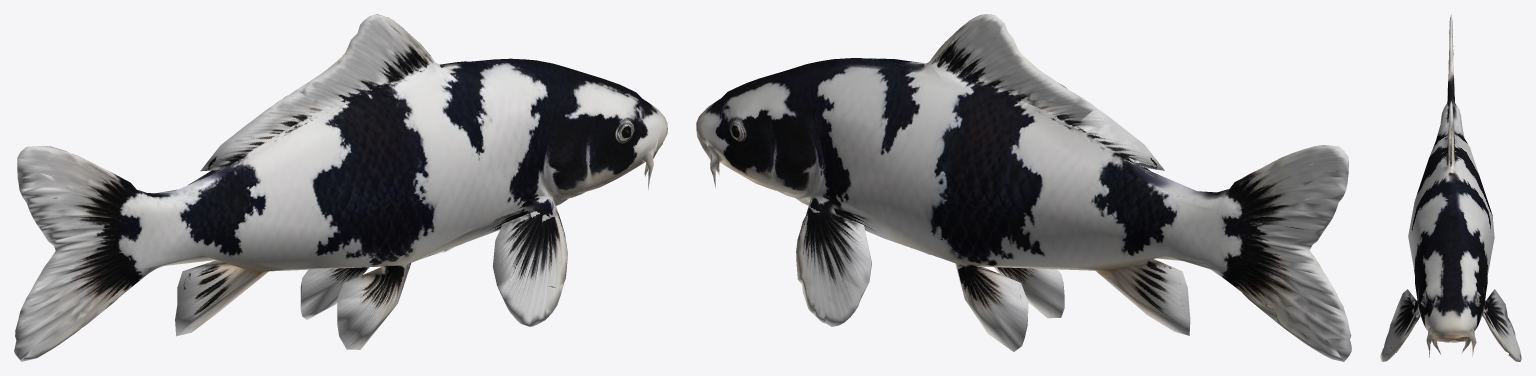
The model's file is shiro.glb.
The picture shows the model from 3 angles, left to right: view 1: azimuth 30°, elevation 25°; view 2: azimuth 150°, elevation 25°; view 3: azimuth 270°, elevation 25°; orthographic projection. The views are drawn at different scales.
Parts seen in each view (by area): view 1: shiro; view 2: shiro; view 3: shiro.
Boxes of the visible parts, x1,y1,x2,y2 form: shiro: [14, 14, 667, 361]; shiro: [696, 14, 1351, 361]; shiro: [1380, 14, 1521, 361].
Bounding box in the file's own units: 1 × 0.4568 × 0.2623.
1 material, 1 textured.
